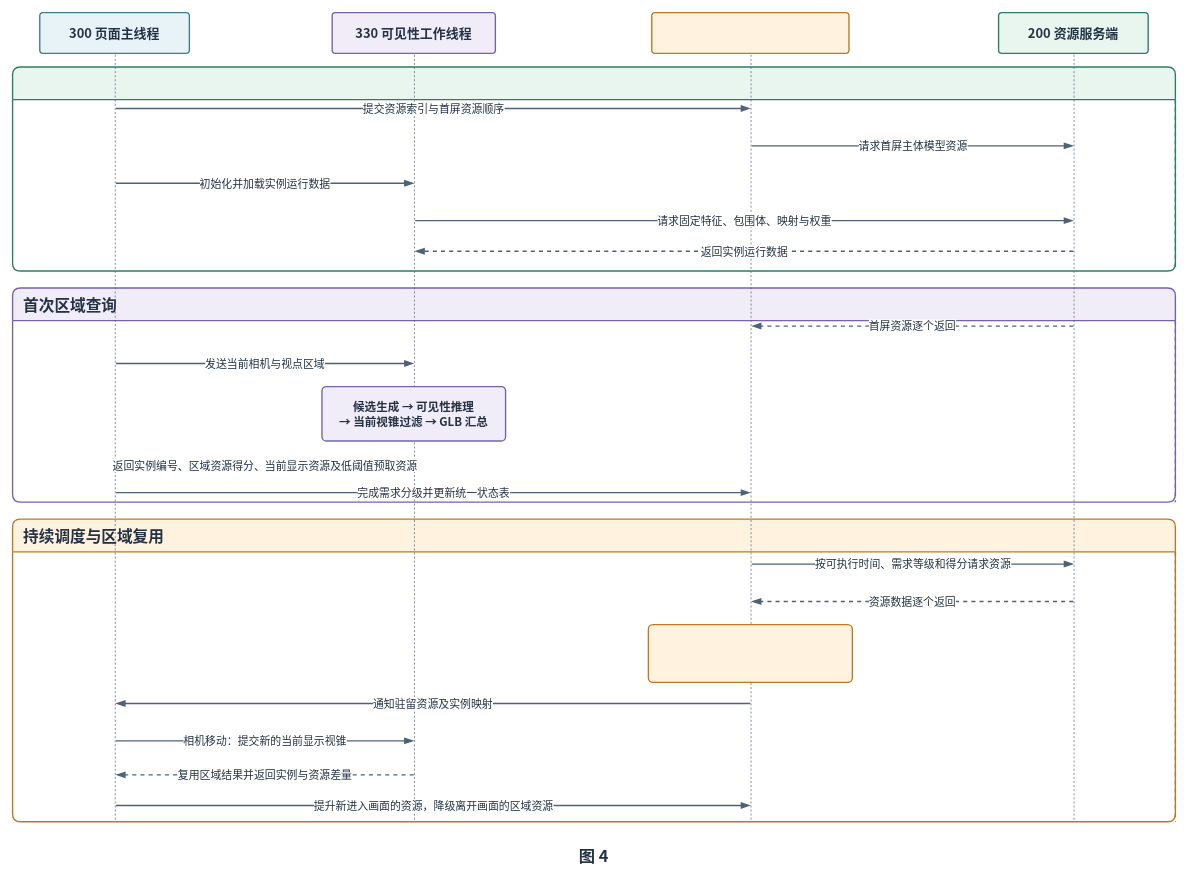
Some shapes in this 1187 by 879 pixel diagram are drawn without their labels. The box of each missing label's shape, as (x1, y1, x2, y2) in pixels:
340/350 资源状态调度与流水线: (651, 12, 849, 54)
启动阶段: (12, 66, 1176, 271)
排队 → 下载 → 解析 → 挂载 → 驻留 失败任务按等待时间有限重试: (647, 624, 853, 683)
